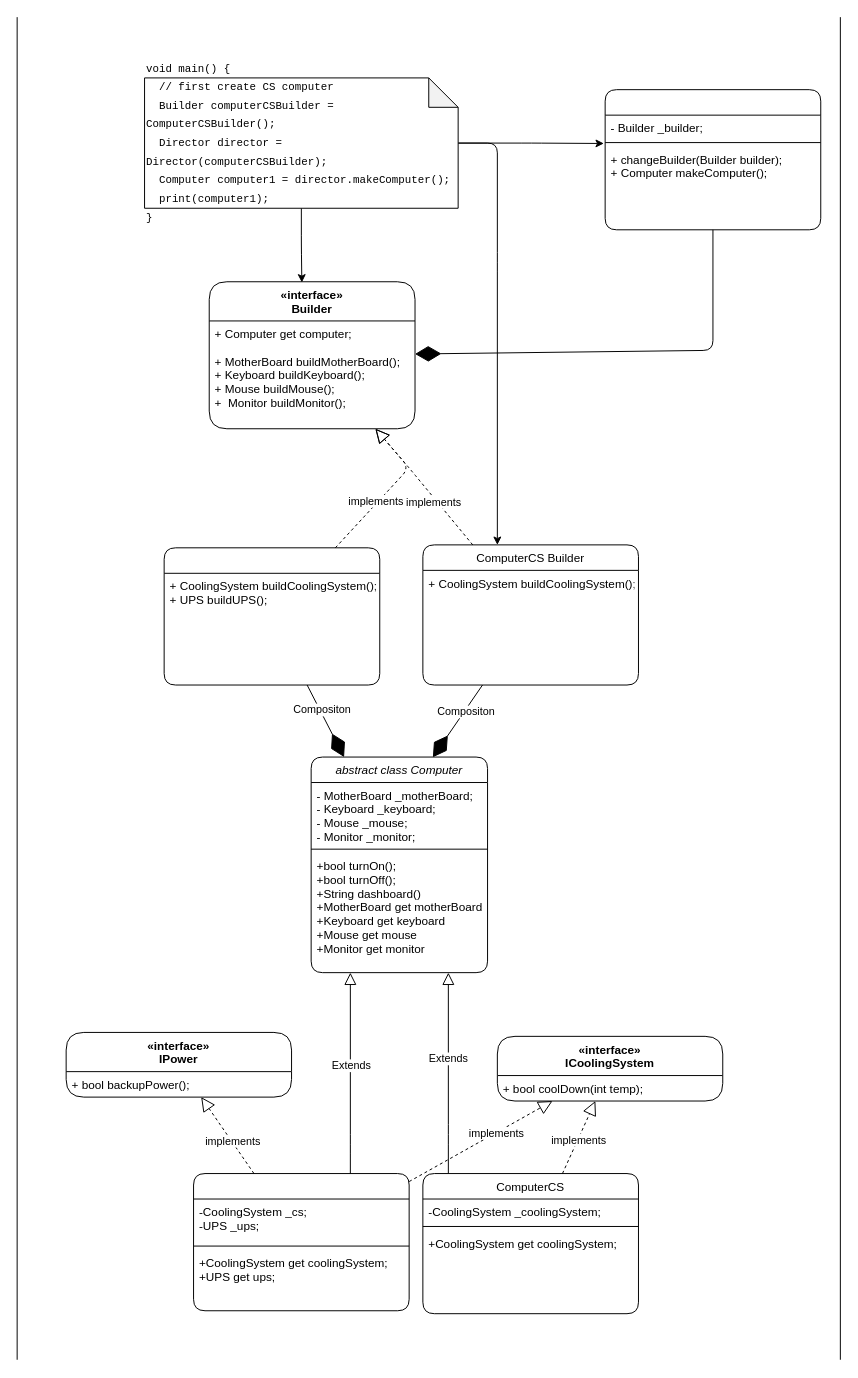
Image size: 858x1378. Some labels were removed from this diagram. Here are the shapes that lost their labels. From the top down, the box of each, then its label:
(604, 89, 821, 230): Director
(163, 547, 380, 685): ComputerXL Builder
(193, 1173, 409, 1311): ComputerXL
